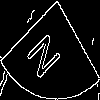N: (25, 25, 68, 83)
